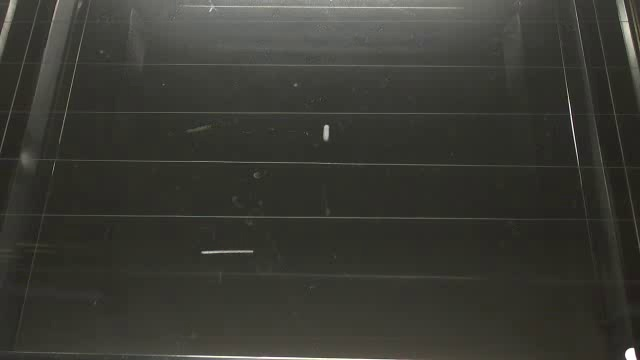Alfa: (198, 248, 255, 259), (321, 122, 332, 145)
